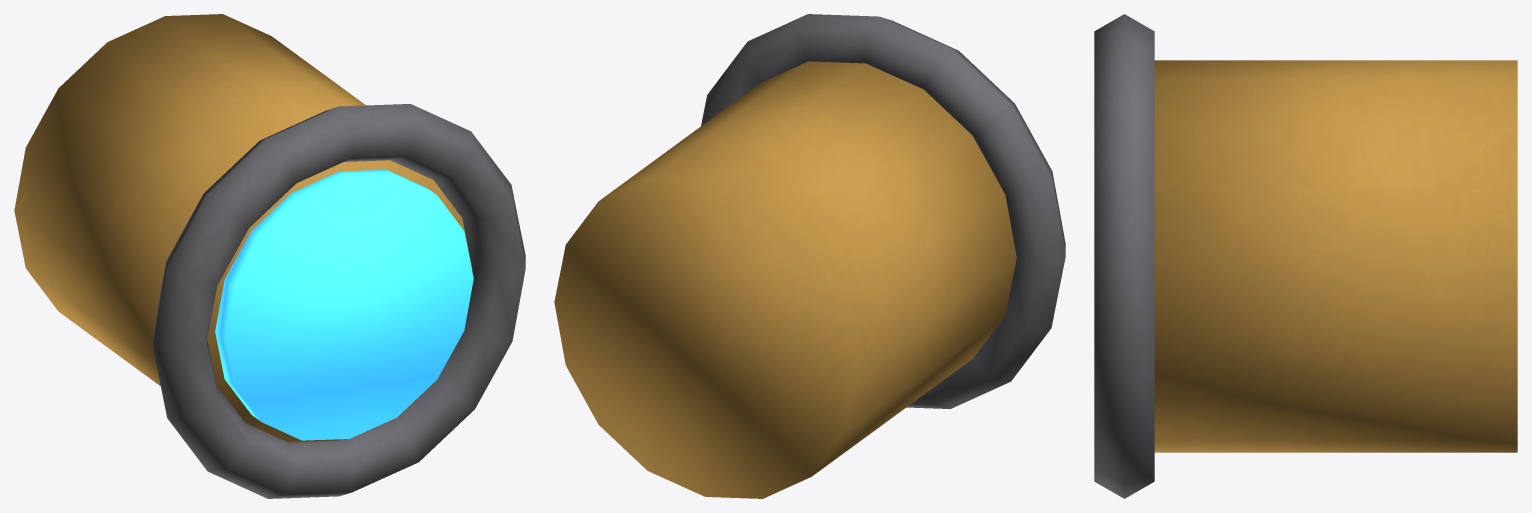
File: prop_jeweler_loupe.glb
3 views of the same model, side by side, from view 1: azimuth 30°, elevation 25°; view 2: azimuth 150°, elevation 25°; view 3: azimuth 270°, elevation 25° (orthographic). The views are drawn at different scales.
Parts seen in each view (by area): view 1: jeweler_loupe; view 2: jeweler_loupe; view 3: jeweler_loupe.
Boxes of the visible parts, left/top/right/bottom form: jeweler_loupe: left=14, top=14, right=525, bottom=498; jeweler_loupe: left=554, top=14, right=1065, bottom=498; jeweler_loupe: left=1094, top=14, right=1517, bottom=498.
Bounding box in the file's own units: 0.042 × 0.042 × 0.0366.
1 material, 1 textured.
